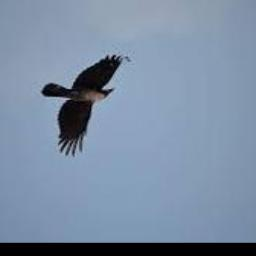Crow: (41, 55, 122, 157)
